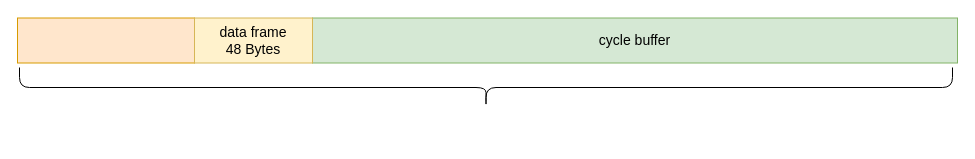
Image size: 975x159. Some labels were removed from this diagram. The centre of each missing label's shape, as x and y in pixels:
4KB: the point at 485,87
message frame 88 Bytes: the point at 105,40
